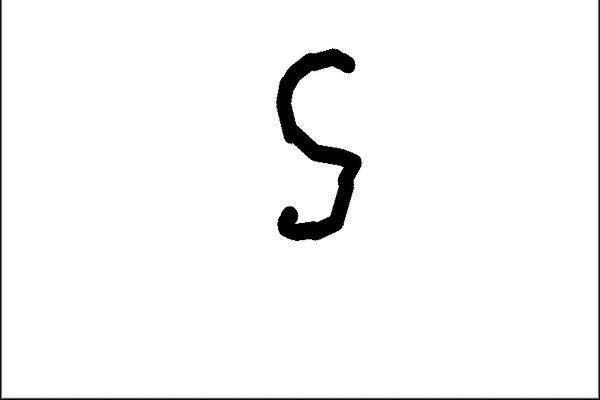S: (257, 44, 369, 249)
